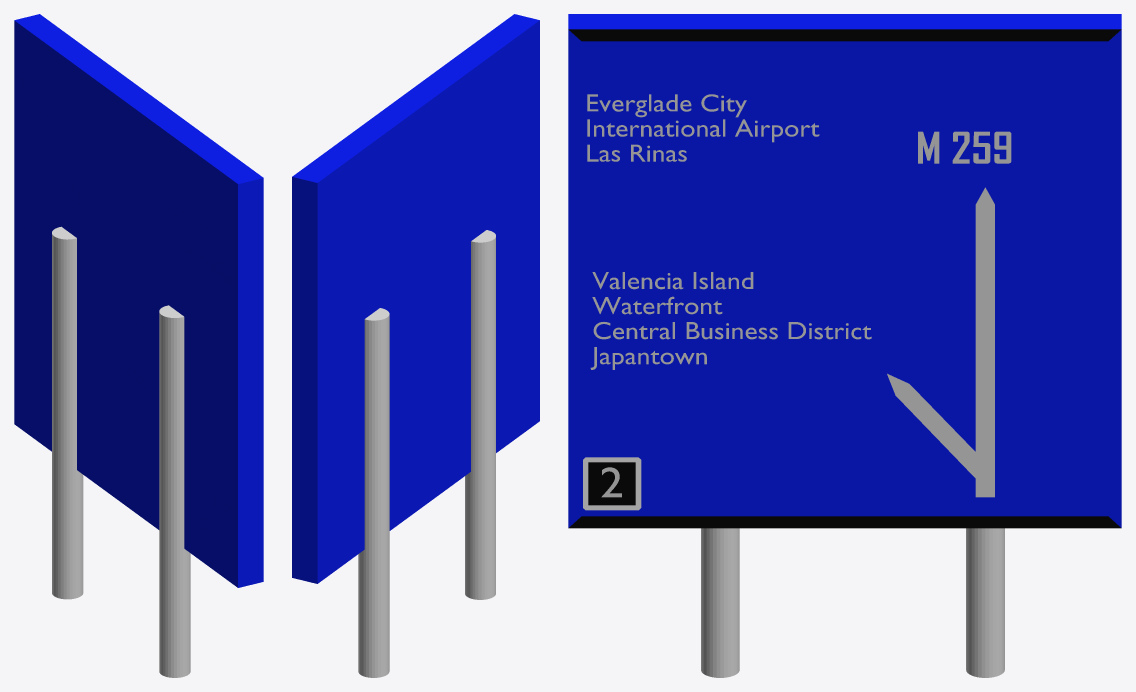
The model's file is UK_motorway_sign_4.fbx.
3 renders of one model, left to right at view 1: azimuth 30°, elevation 25°; view 2: azimuth 150°, elevation 25°; view 3: azimuth 270°, elevation 25°, orthographic. The views are drawn at different scales.
Visible parts, largest first — view 1: Cube.001, Cylinder, Cylinder.001; view 2: Cube.001, Cylinder.001, Cylinder; view 3: Cube.001, Plane, Cylinder.001, Cylinder, Text.004, Text.002, Plane.002, Plane.001, Text.003.
Part boxes in pixels (bbox=[...]): Cube.001: bbox=[14, 14, 263, 587]; Cylinder: bbox=[159, 305, 190, 677]; Cylinder.001: bbox=[52, 226, 83, 599]; Cube.001: bbox=[292, 14, 539, 583]; Cylinder.001: bbox=[358, 308, 389, 677]; Cylinder: bbox=[465, 230, 495, 599]; Cube.001: bbox=[568, 14, 1121, 528]; Plane: bbox=[975, 187, 994, 497]; Cylinder.001: bbox=[966, 528, 1004, 677]; Cylinder: bbox=[701, 528, 739, 677]; Text.004: bbox=[590, 272, 871, 369]; Text.002: bbox=[587, 94, 819, 161]; Plane.002: bbox=[583, 457, 641, 510]; Plane.001: bbox=[887, 373, 975, 477]; Text.003: bbox=[918, 131, 1011, 163].
Size of the model in its own units: 6.09 by 74.37 by 56.78.
